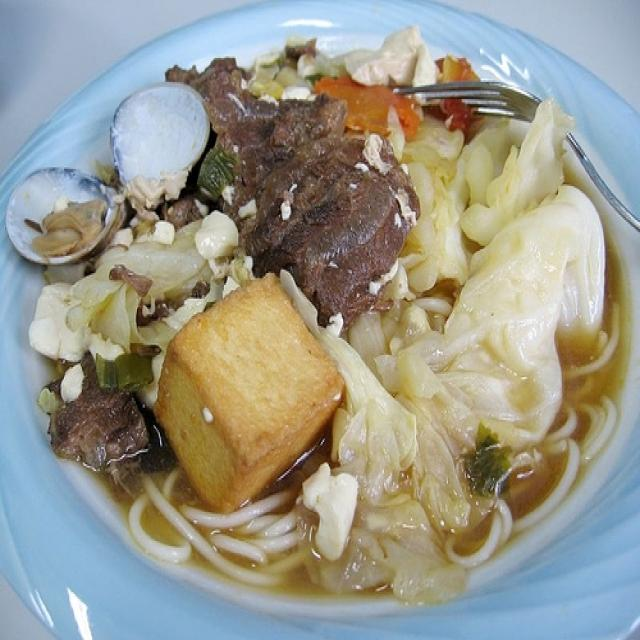汤锅炖物: (11, 10, 624, 618)
